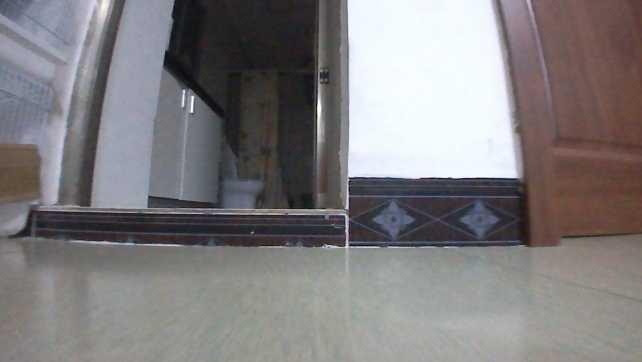door_sill: (27, 202, 347, 250)
toilet: (219, 140, 265, 210)
